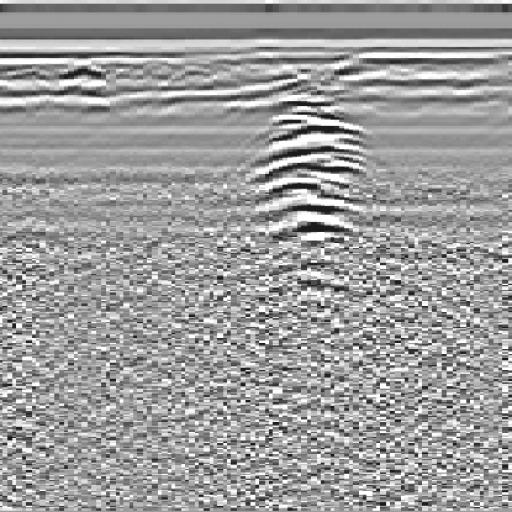metalic: (203, 69, 418, 298)
